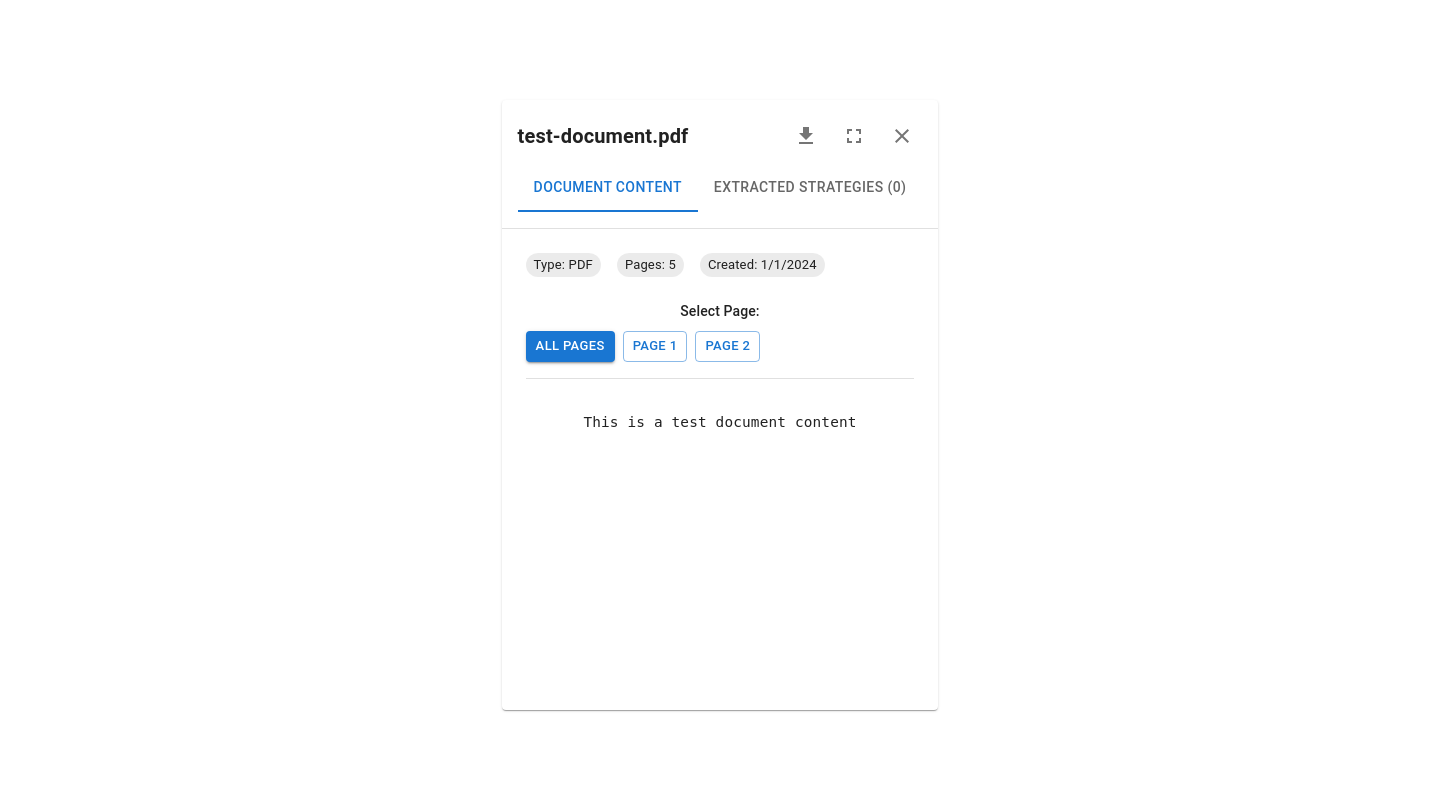
Test case: DocumentViewer › should toggle fullscreen mode
Expected: the heading "test-document.pdf" is shown, left=518, top=120, right=688, bottom=152
Click the button named "Fullscreen": (854, 136) left=834, top=116, right=874, bottom=156
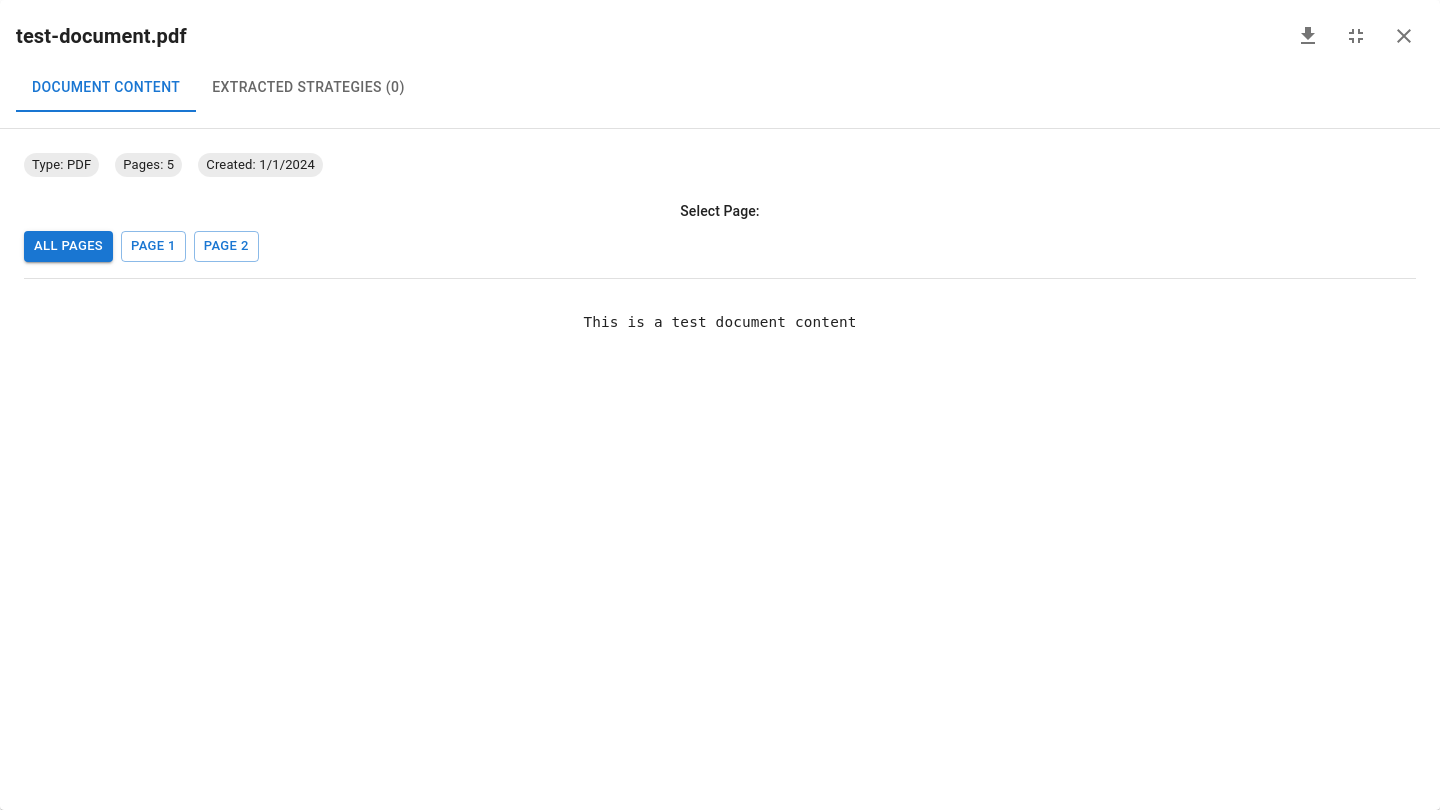
Result: the button named "Exit fullscreen" is shown at left=1336, top=16, right=1376, bottom=56
